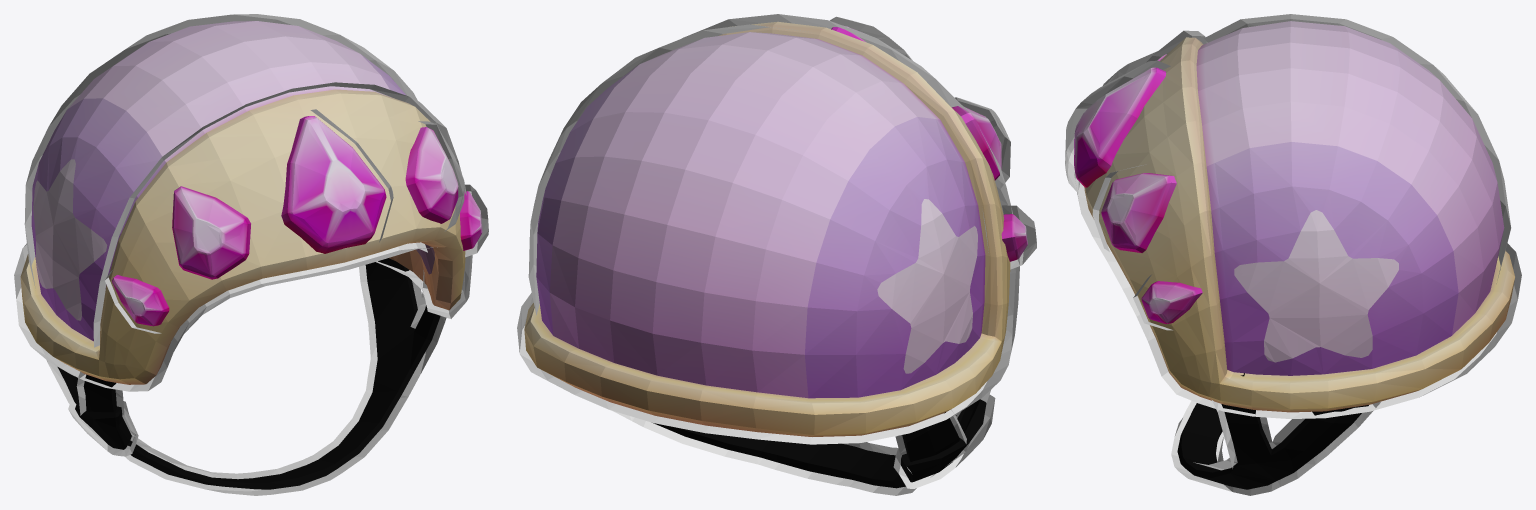
The model's file is pickup_GymnasticCrownHelmet_outline_MESH.glb.
3 renders of one model, left to right at view 1: azimuth 30°, elevation 25°; view 2: azimuth 150°, elevation 25°; view 3: azimuth 270°, elevation 25°, orthographic. The views are drawn at different scales.
Visible parts, largest first — view 1: GymnasticCrownHelmet_outline; view 2: GymnasticCrownHelmet_outline; view 3: GymnasticCrownHelmet_outline.
Boxes of the visible parts, box(x1,y1,x2,y2) form: GymnasticCrownHelmet_outline: box(14, 14, 488, 495); GymnasticCrownHelmet_outline: box(517, 14, 1036, 495); GymnasticCrownHelmet_outline: box(1065, 14, 1521, 495).
Bounding box in the file's own units: 0.5738 × 0.5929 × 0.5686.
